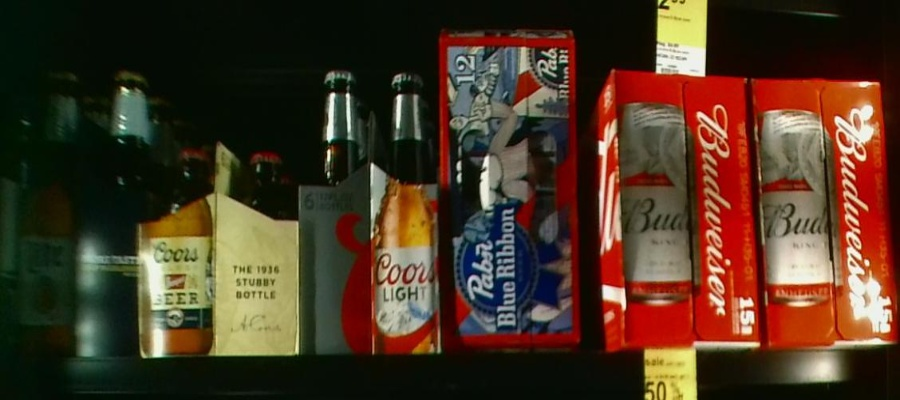bottle: (585, 67, 758, 347), (437, 28, 580, 353), (299, 65, 437, 355), (751, 72, 889, 346), (140, 143, 297, 354), (18, 63, 80, 361), (83, 69, 138, 354)
